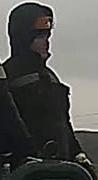gloves: (71, 150, 93, 168)
helmet: (29, 10, 57, 34)
vest: (0, 59, 82, 162)
